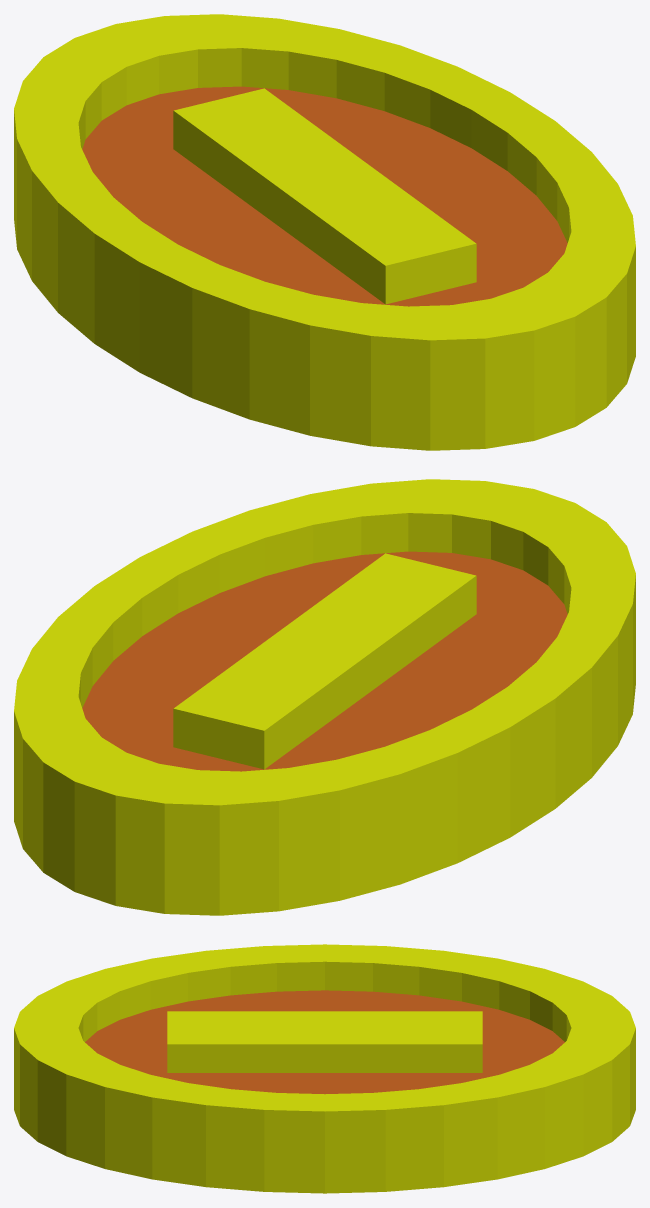
Rendered from coin.fbx.
3 views of the same model, one above another, from view 1: azimuth 30°, elevation 25°; view 2: azimuth 150°, elevation 25°; view 3: azimuth 270°, elevation 25° (orthographic). The views are drawn at different scales.
Parts seen in each view (by area): view 1: Coin; view 2: Coin; view 3: Coin.
Boxes of the visible parts, bbox=[...] form: Coin: bbox=[14, 14, 635, 450]; Coin: bbox=[14, 479, 635, 915]; Coin: bbox=[14, 944, 635, 1193].
Bounding box in the file's own units: 251 × 57.63 × 395.
